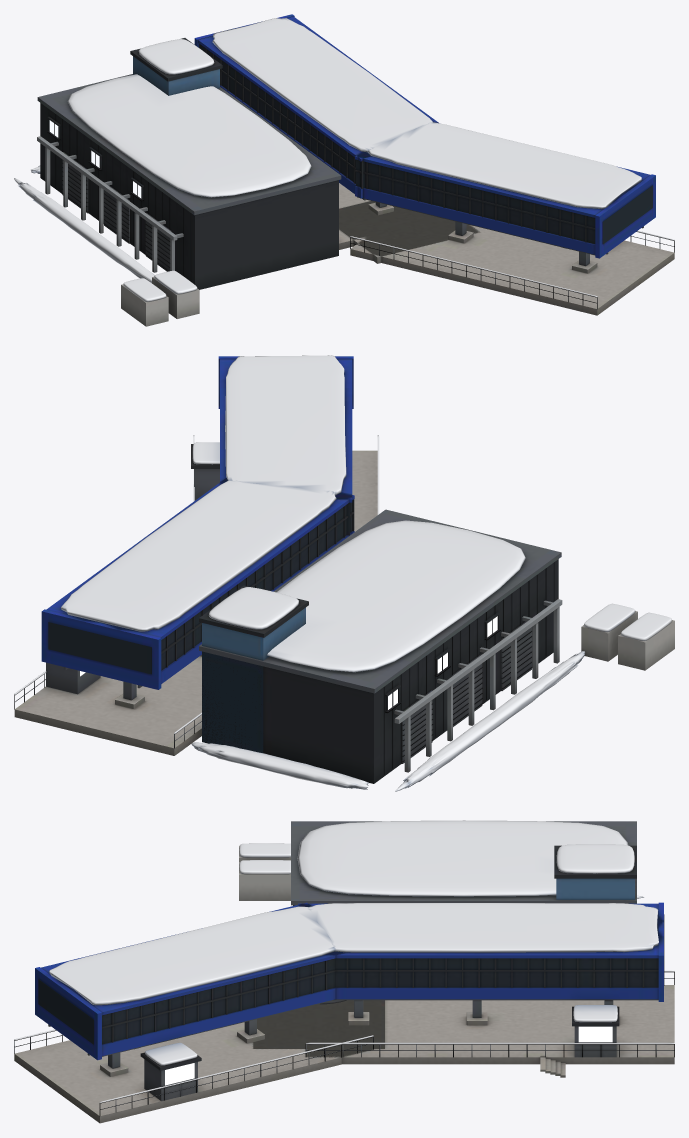
The model's file is wild_blue_angle.glb.
3 renders of one model, top to bottom at view 1: azimuth 30°, elevation 25°; view 2: azimuth 150°, elevation 25°; view 3: azimuth 270°, elevation 25°, orthographic. The views are drawn at different scales.
Parts seen in each view (by area): view 1: wild_blue_angle, wild_blue_angle_snow; view 2: wild_blue_angle, wild_blue_angle_snow; view 3: wild_blue_angle, wild_blue_angle_snow, wild_blue_angle_lit.
Part boxes in pixels (x1,y1,x2,y2): wild_blue_angle: (37,14,674,326); wild_blue_angle_snow: (14,18,674,301); wild_blue_angle: (14,356,674,783); wild_blue_angle_snow: (14,355,671,791); wild_blue_angle: (14,821,674,1123); wild_blue_angle_snow: (14,820,674,1103); wild_blue_angle_lit: (165,1026,612,1085).
Size of the model in its own units: 45.27 by 10.25 by 50.23.
Materials: 3 (1 with a texture image).
